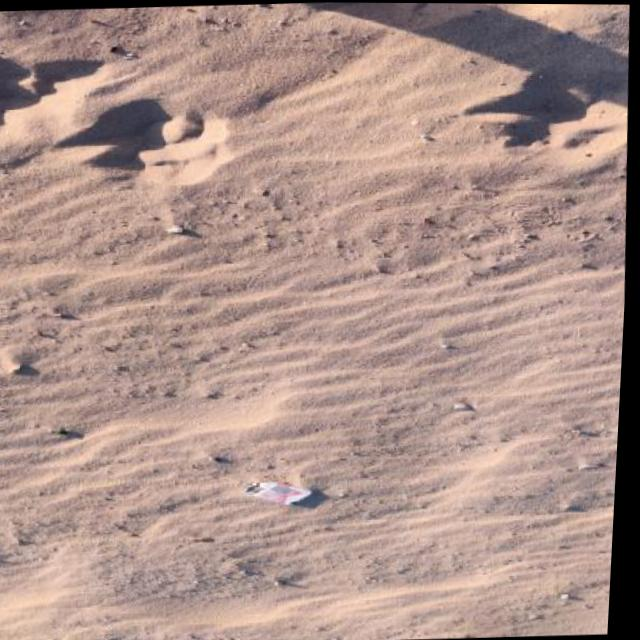cardboard: (242, 479, 313, 507)
